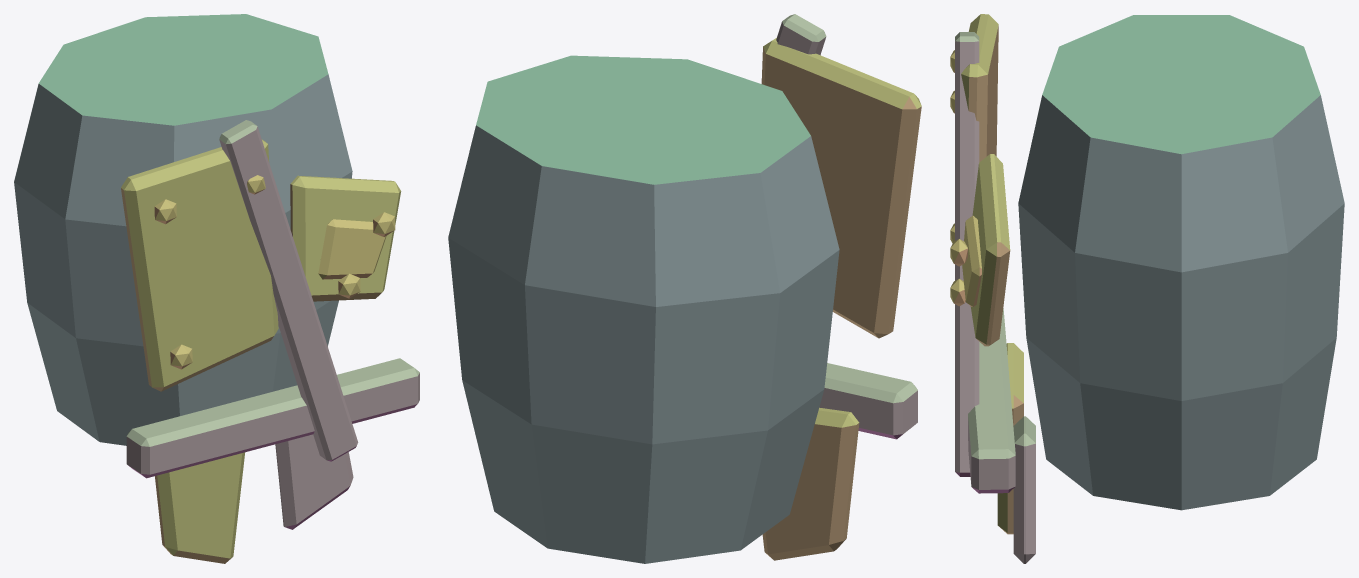
File: npc_module_chest_plate_raider_v01.glb
The picture shows the model from 3 angles, left to right: view 1: azimuth 30°, elevation 25°; view 2: azimuth 150°, elevation 25°; view 3: azimuth 270°, elevation 25°; orthographic projection. The views are drawn at different scales.
Parts seen in each view (by area): view 1: GEO_npc_module_chest_plate_raider_v01; view 2: GEO_npc_module_chest_plate_raider_v01; view 3: GEO_npc_module_chest_plate_raider_v01.
Part boxes in pixels (box(x1,y1,x2,y2)): GEO_npc_module_chest_plate_raider_v01: box(14, 14, 419, 563); GEO_npc_module_chest_plate_raider_v01: box(448, 14, 921, 563); GEO_npc_module_chest_plate_raider_v01: box(950, 14, 1344, 563).
Size of the model in its own units: 0.97 by 1.37 by 0.9759.
